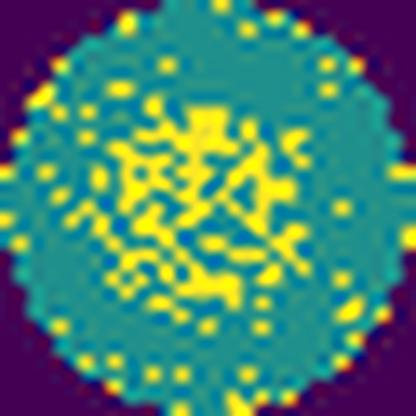Center: (66, 99, 308, 314)
